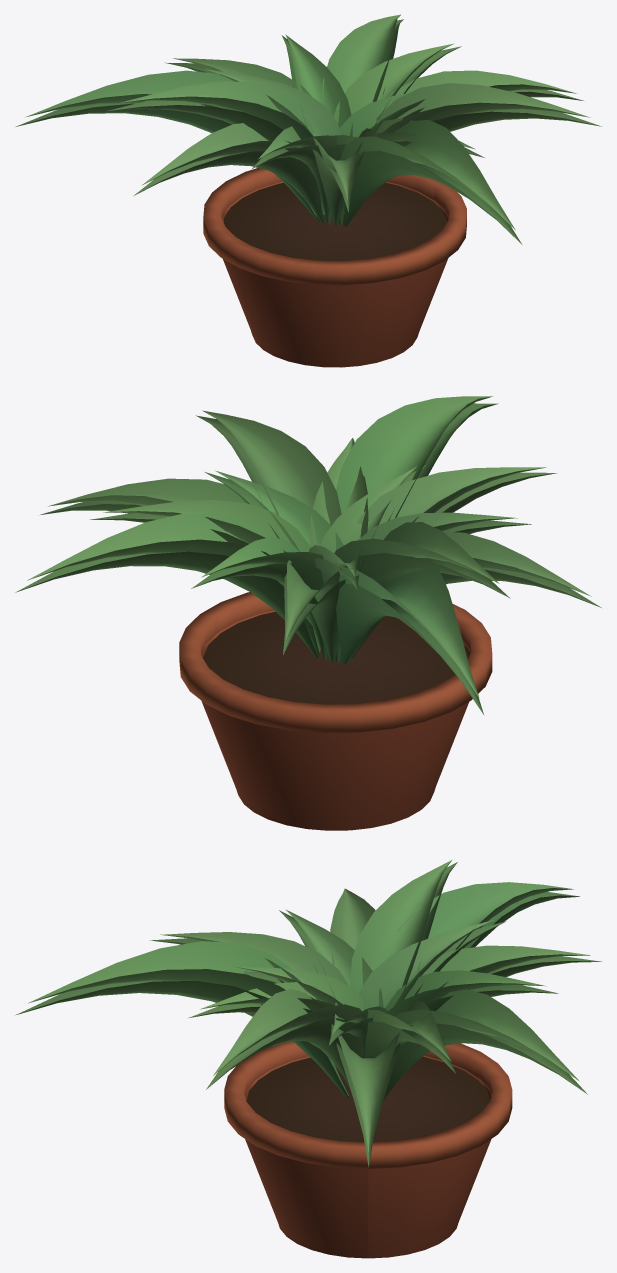
File: aloe-vera.glb
3 renders of one model, top to bottom at view 1: azimuth 30°, elevation 25°; view 2: azimuth 150°, elevation 25°; view 3: azimuth 270°, elevation 25°, orthographic. The views are drawn at different scales.
Parts seen in each view (by area): view 1: aloe-vera; view 2: aloe-vera; view 3: aloe-vera.
Boxes of the visible parts, <box> form: aloe-vera: <box>15,14,601,367</box>; aloe-vera: <box>15,396,601,830</box>; aloe-vera: <box>15,860,602,1258</box>.
Size of the model in its own units: 0.3729 by 0.189 by 0.3683.
